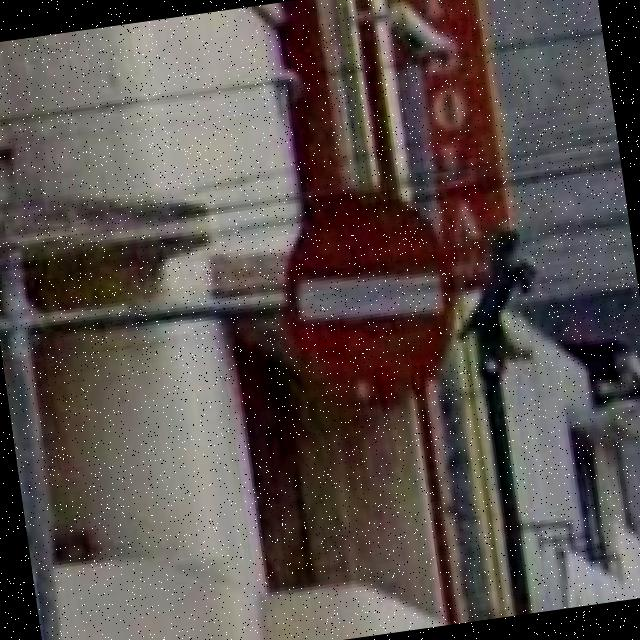Zakaz wjazdu: (276, 190, 467, 416)
